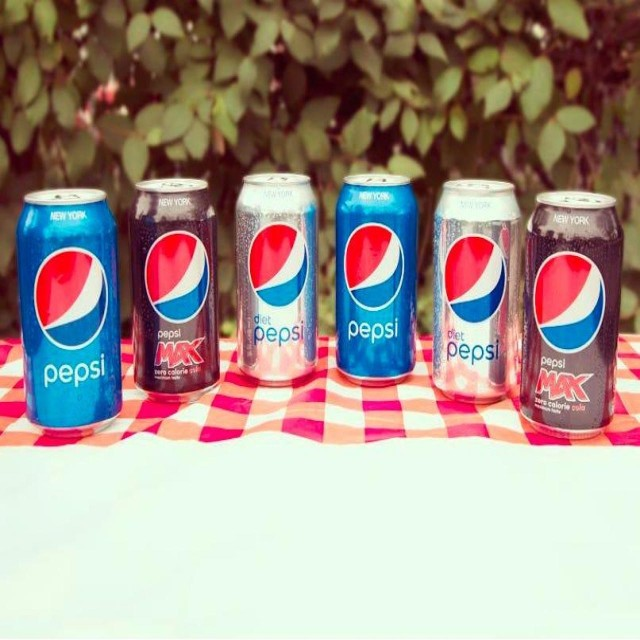pepsi: (532, 248, 611, 355), (38, 248, 108, 350), (144, 229, 217, 320), (342, 224, 410, 314), (442, 235, 507, 323), (248, 223, 314, 303)
